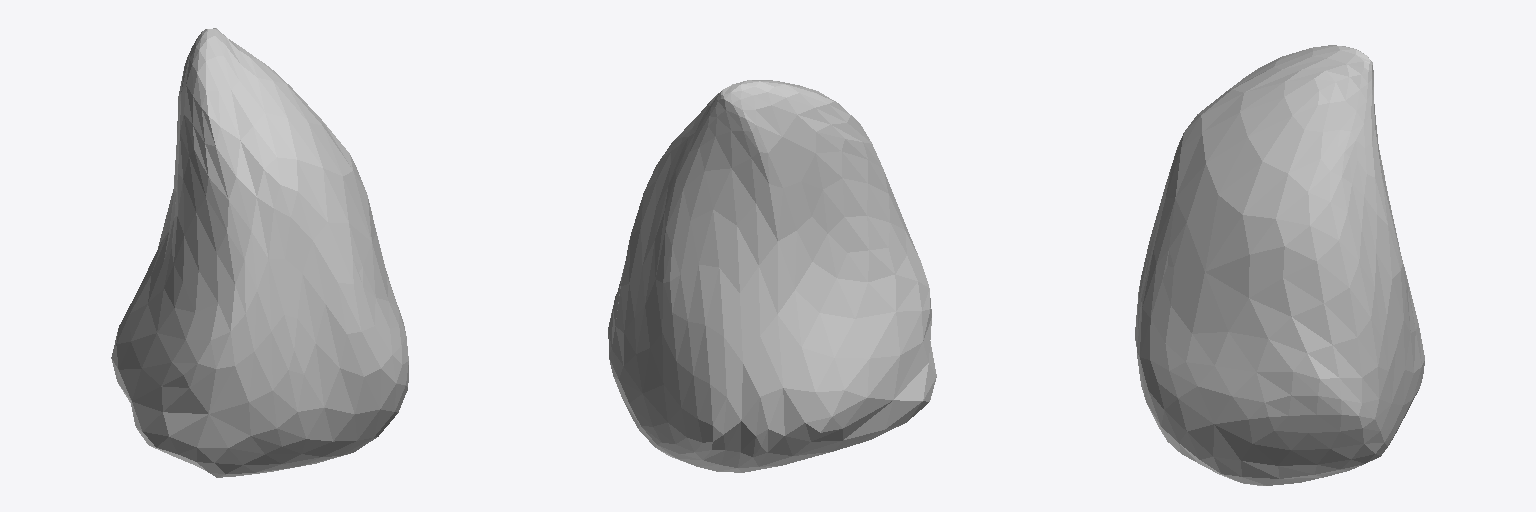
The model's file is Rock08.obj.
The picture shows the model from 3 angles: view 1: azimuth 30°, elevation 25°; view 2: azimuth 150°, elevation 25°; view 3: azimuth 270°, elevation 25°; orthographic projection.
Visible parts, largest first — view 1: Rock03; view 2: Rock03; view 3: Rock03.
Part boxes in pixels (left/top/right/bottom): Rock03: left=111, top=28, right=408, bottom=477; Rock03: left=608, top=80, right=936, bottom=472; Rock03: left=1135, top=45, right=1424, bottom=485.
Size of the model in its own units: 34.06 by 48.88 by 31.91.